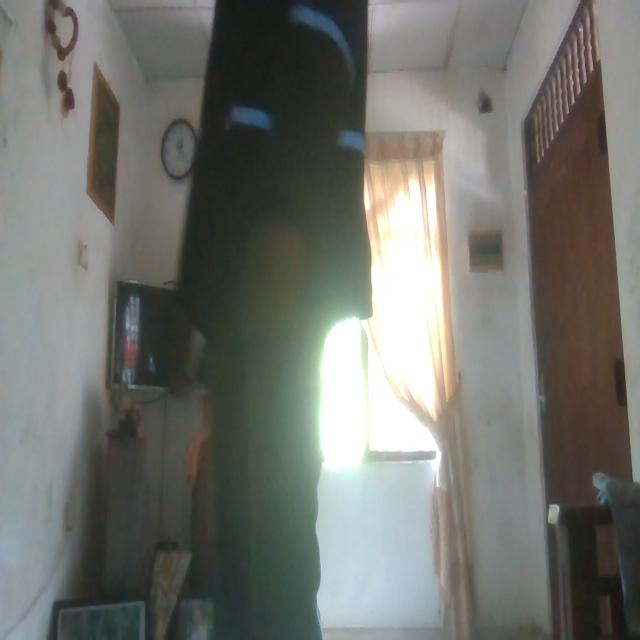Jacket_Wearer: (193, 6, 373, 331)
Person: (178, 0, 380, 640)
